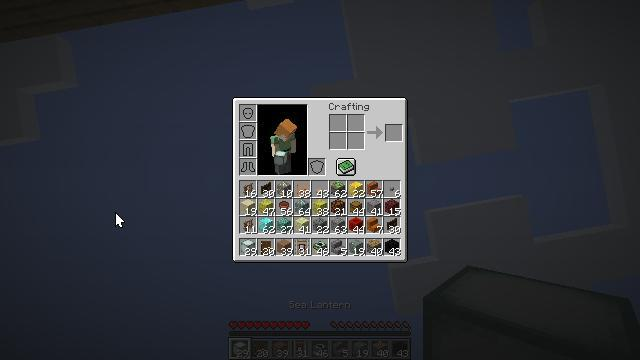cursor: (115, 212, 125, 228)
